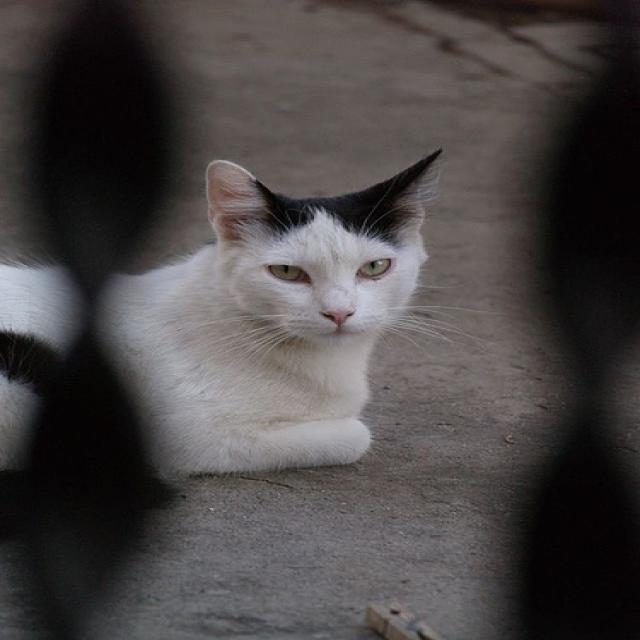cat: (1, 147, 446, 477)
